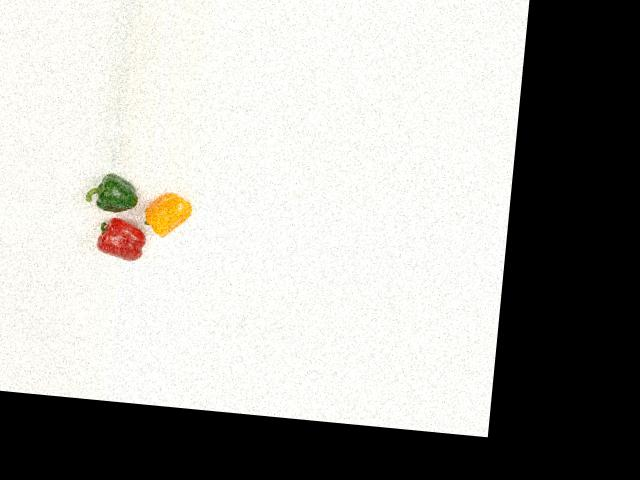bell_pepper: (82, 170, 140, 216)
